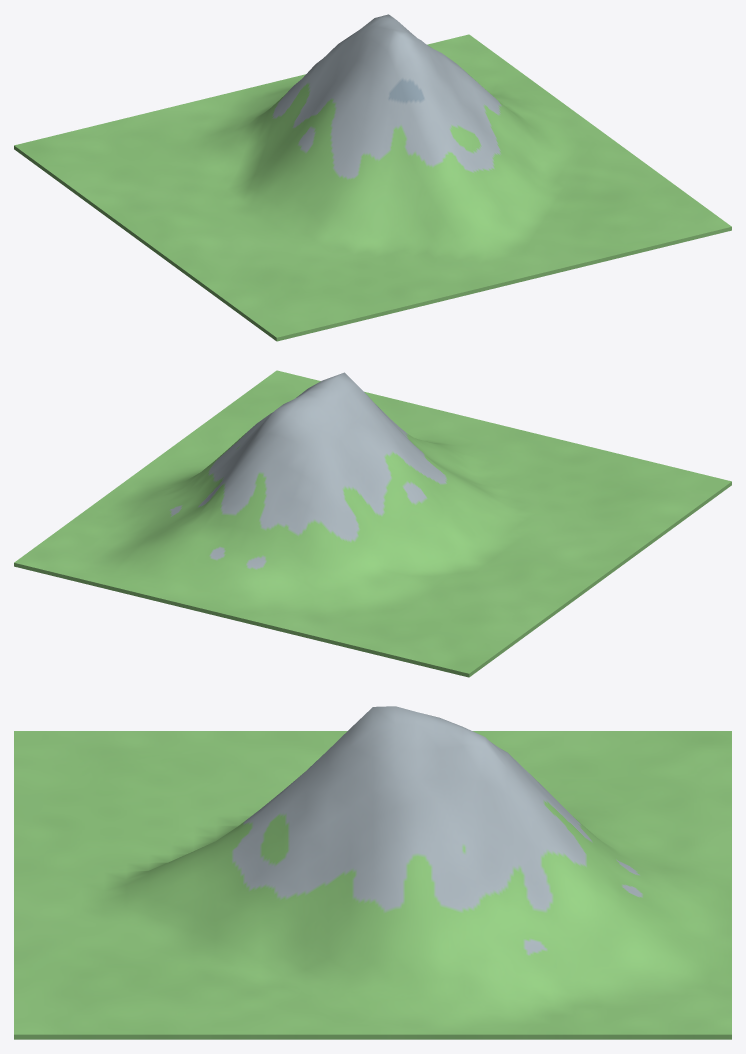
Rendered from Grass_RockyMountains_01.obj.
3 renders of one model, top to bottom at view 1: azimuth 30°, elevation 25°; view 2: azimuth 150°, elevation 25°; view 3: azimuth 270°, elevation 25°, orthographic. The views are drawn at different scales.
Bounding box in the file's own units: 10 × 3.09 × 10.
Materials: 1 (1 with a texture image).
